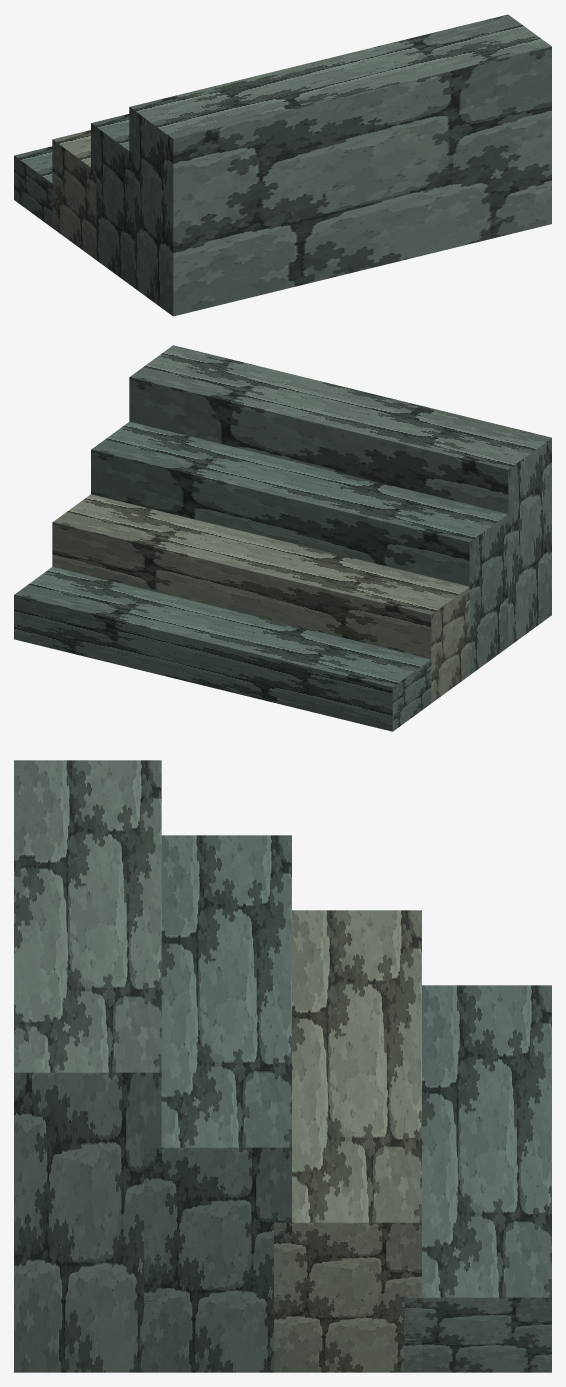
File: steps.glb
3 renders of one model, top to bottom at view 1: azimuth 30°, elevation 25°; view 2: azimuth 150°, elevation 25°; view 3: azimuth 270°, elevation 25°, orthographic. The views are drawn at different scales.
Parts seen in each view (by area): view 1: steps; view 2: steps; view 3: steps.
Part boxes in pixels (<box>): steps: <box>14,14,551,316</box>; steps: <box>14,345,551,731</box>; steps: <box>14,760,551,1372</box>.
Bounding box in the file's own units: 1.25 × 0.56 × 0.91.
1 material, 1 textured.
